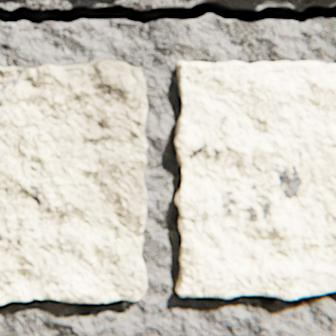brick: (173, 61, 335, 298), (0, 60, 146, 304)
crack: (0, 1, 335, 25)
